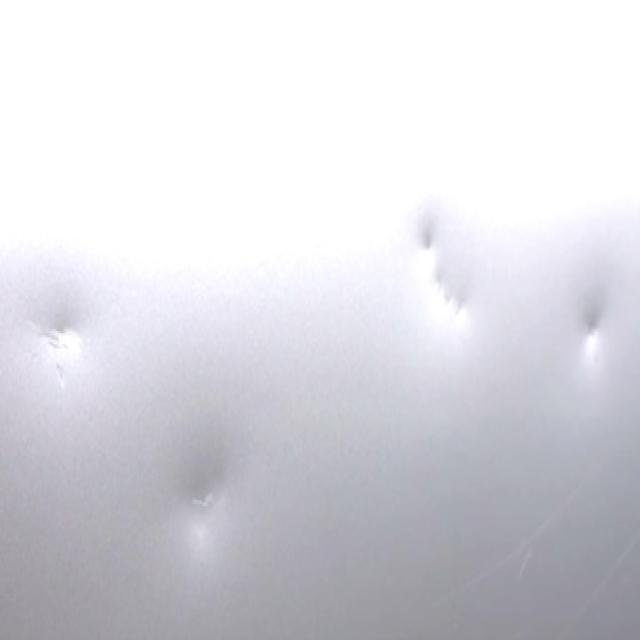dent: (417, 198, 505, 382), (173, 430, 254, 549), (566, 303, 617, 382), (45, 307, 94, 386)
